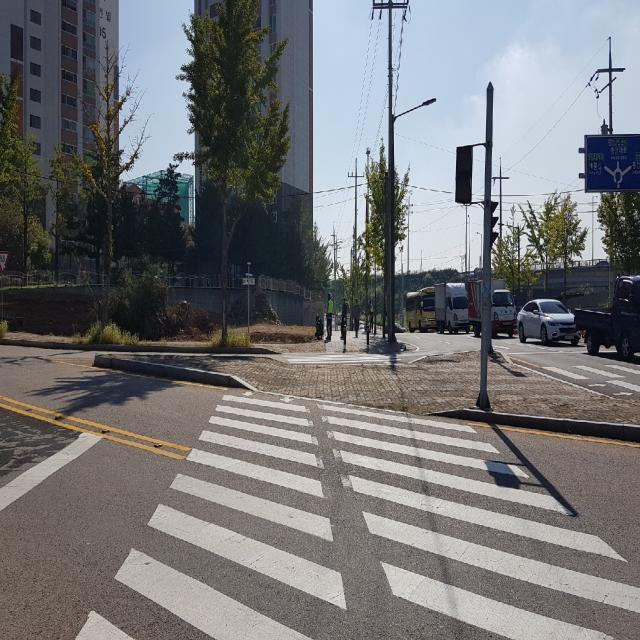횡단보도: (73, 390, 640, 639), (552, 368, 638, 383)
